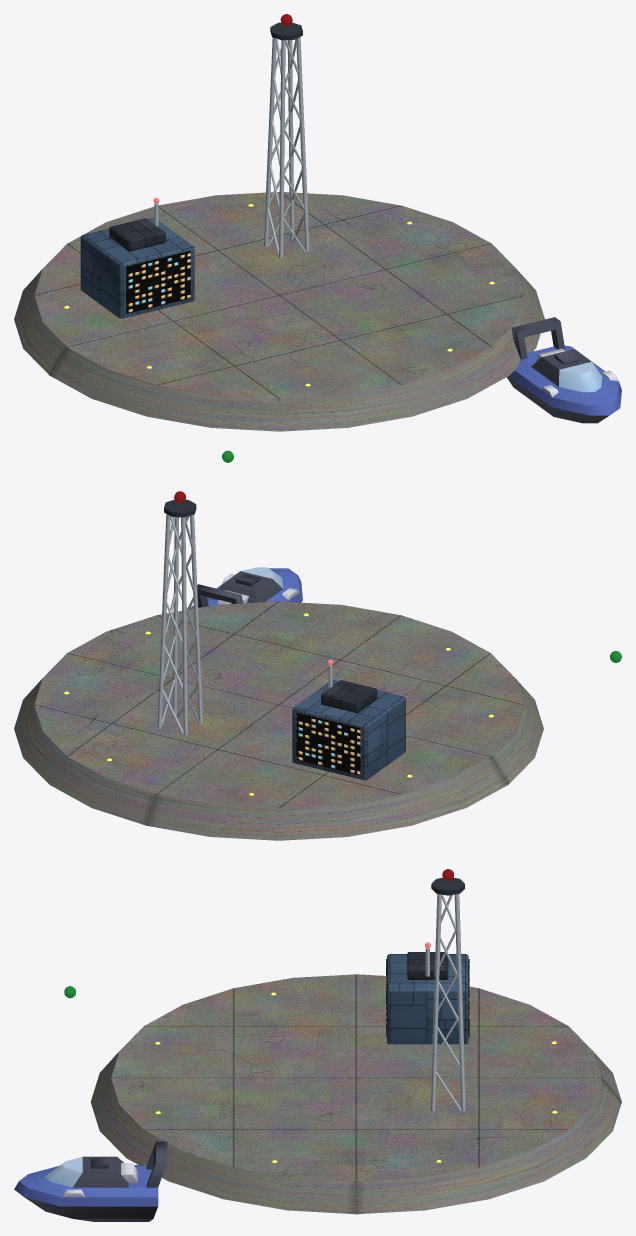
Rendered from customs-T1.glb.
The picture shows the model from 3 angles, top to bottom: view 1: azimuth 30°, elevation 25°; view 2: azimuth 150°, elevation 25°; view 3: azimuth 270°, elevation 25°; orthographic projection.
Visible parts, largest first — view 1: object 1, boat-speed-a, object 11, object 12, object 14; view 2: object 1, object 11, object 13, boat-speed-a, object 14, object 57; view 3: object 1, boat-speed-a, object 11, object 14, object 57.
Boxes of the visible parts, box(x1,y1,x2,y2) form: object 1: box(14, 192, 544, 431); boat-speed-a: box(506, 317, 621, 423); object 11: box(80, 218, 194, 318); object 12: box(126, 250, 190, 313); object 14: box(109, 218, 165, 251); object 1: box(14, 601, 543, 840); object 11: box(292, 679, 405, 780); object 13: box(296, 712, 360, 775); boat-speed-a: box(190, 567, 302, 609); object 14: box(321, 680, 377, 713); object 57: box(164, 499, 196, 517); object 1: box(90, 974, 621, 1214); boat-speed-a: box(14, 1141, 167, 1221); object 11: box(387, 954, 468, 1044); object 14: box(407, 952, 448, 979); object 57: box(431, 877, 464, 895).
Bounding box in the file's own units: 5.2 × 3.16 × 5.95.
11 materials, 6 textured.
